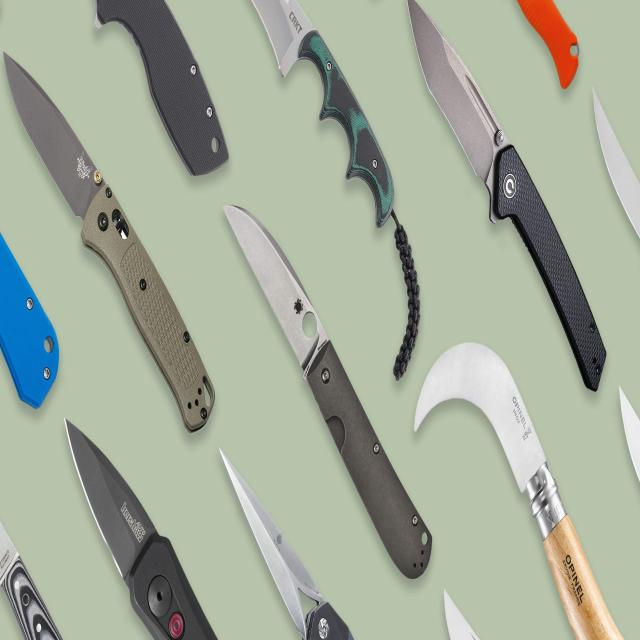Weapon: (5, 55, 211, 431), (408, 0, 606, 390), (225, 206, 430, 578)
